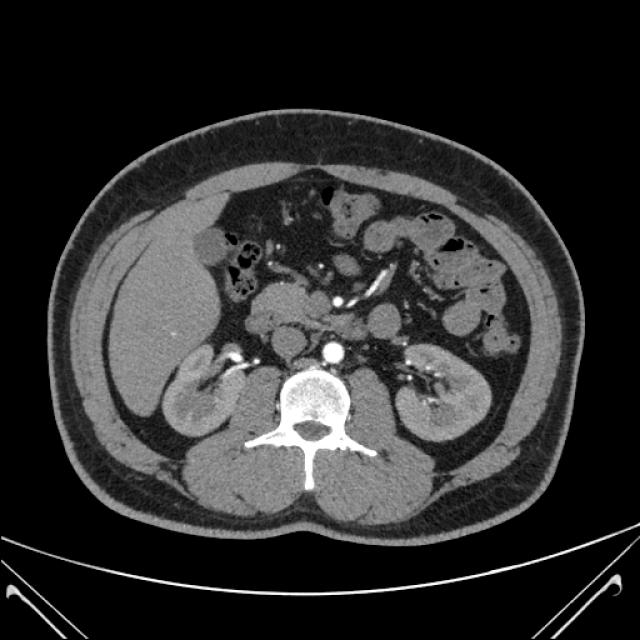Kidney: (13, 65, 594, 528)
